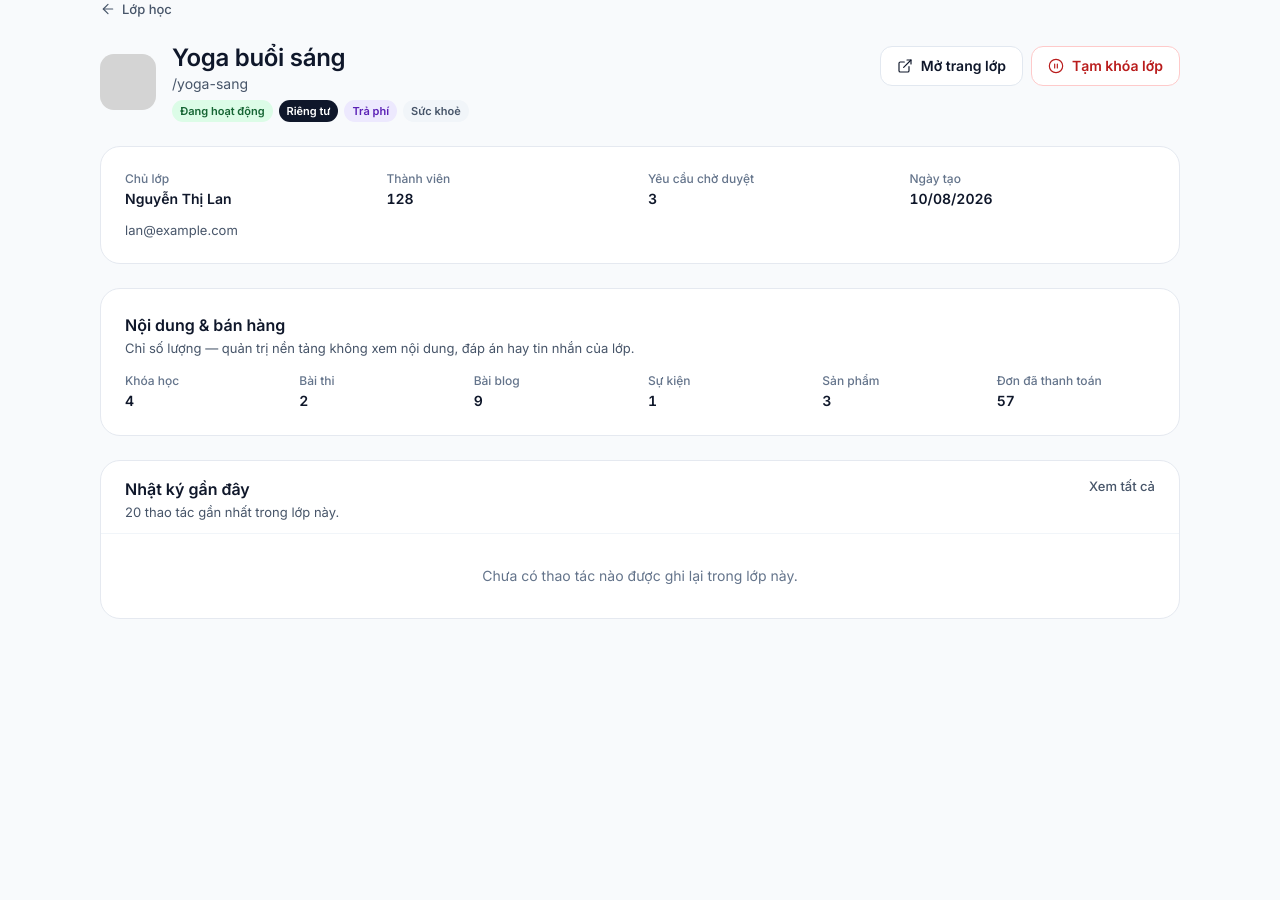
Scenario: AdminClassDetail suspend / restore › shows counts and the class link, and suspends only with a reason
The image size is (1280, 900).
Expected: the heading "Yoga buổi sáng" is shown, [172,43,345,72]
Expected: the text "57" is shown, [997,392,1015,409]
Click the button "Tạm khóa lớp" at point(1105, 66), box [1031,46,1180,86]
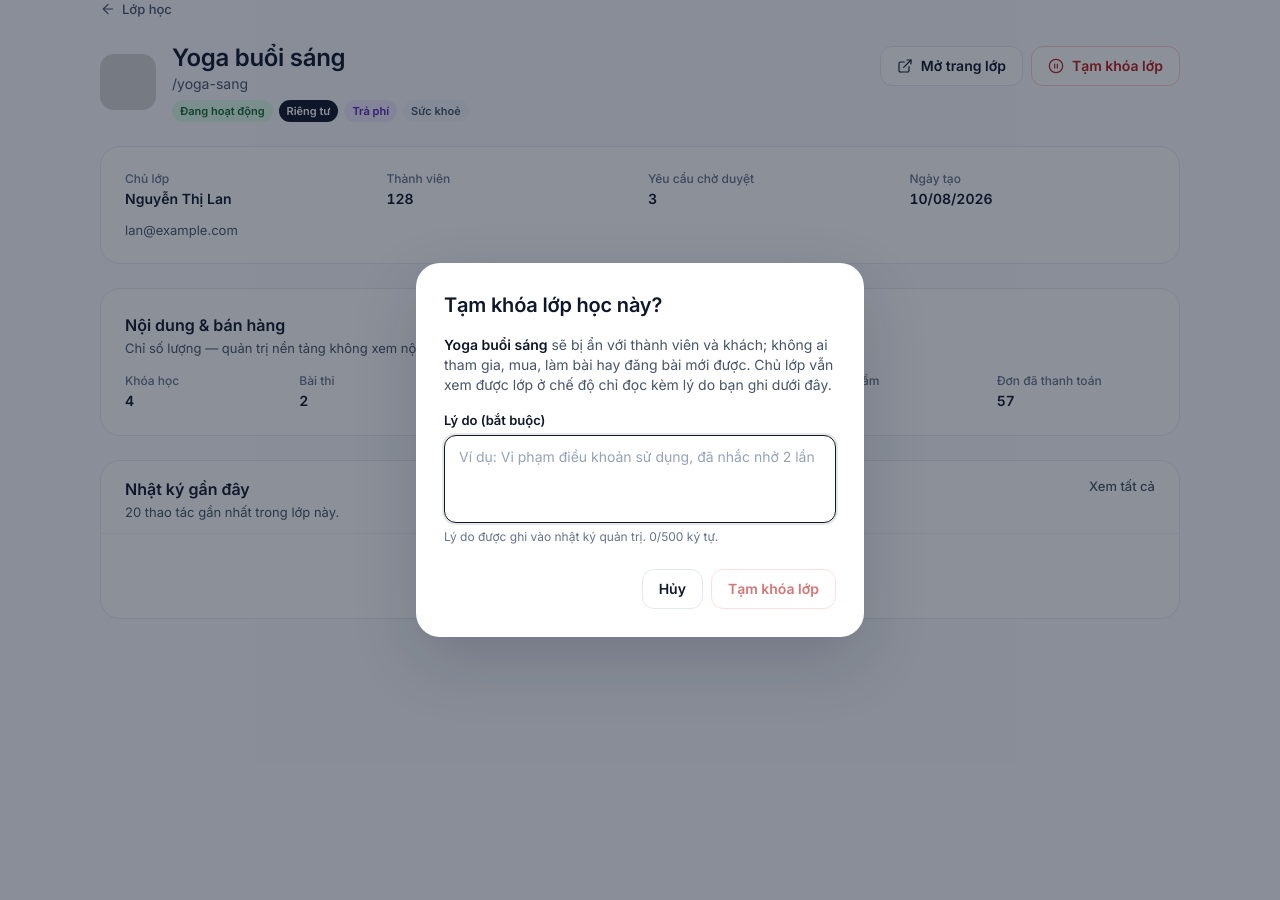
Result: the button "Tạm khóa lớp" is disabled at [711,569,836,609]
Type "Nội dung vi phạm bản quyền" into the text box labelled "Lý do (bắt buộc)" at point(640, 479), box [444,435,836,523]
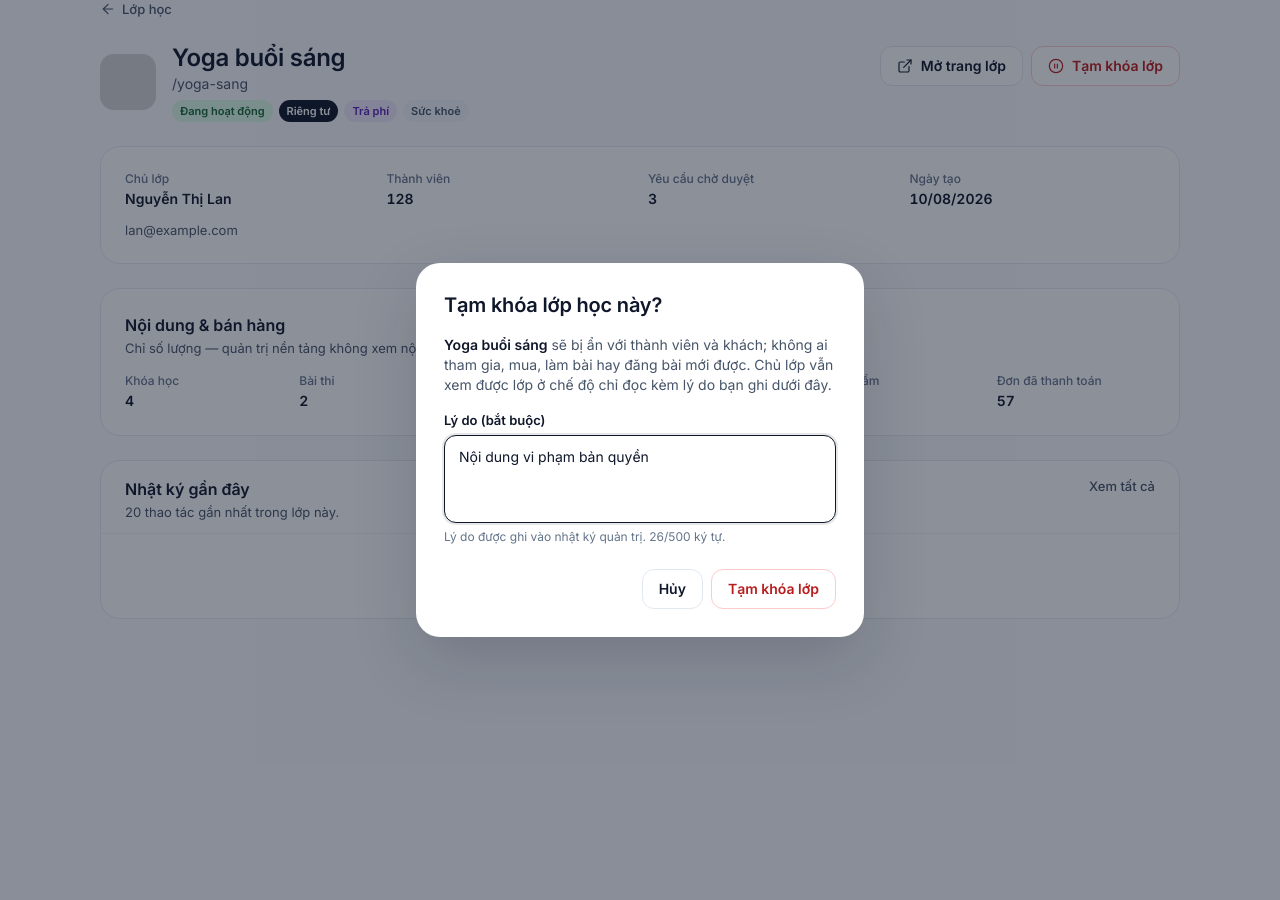
Click the button "Tạm khóa lớp" at point(773, 589), box [711,569,836,609]
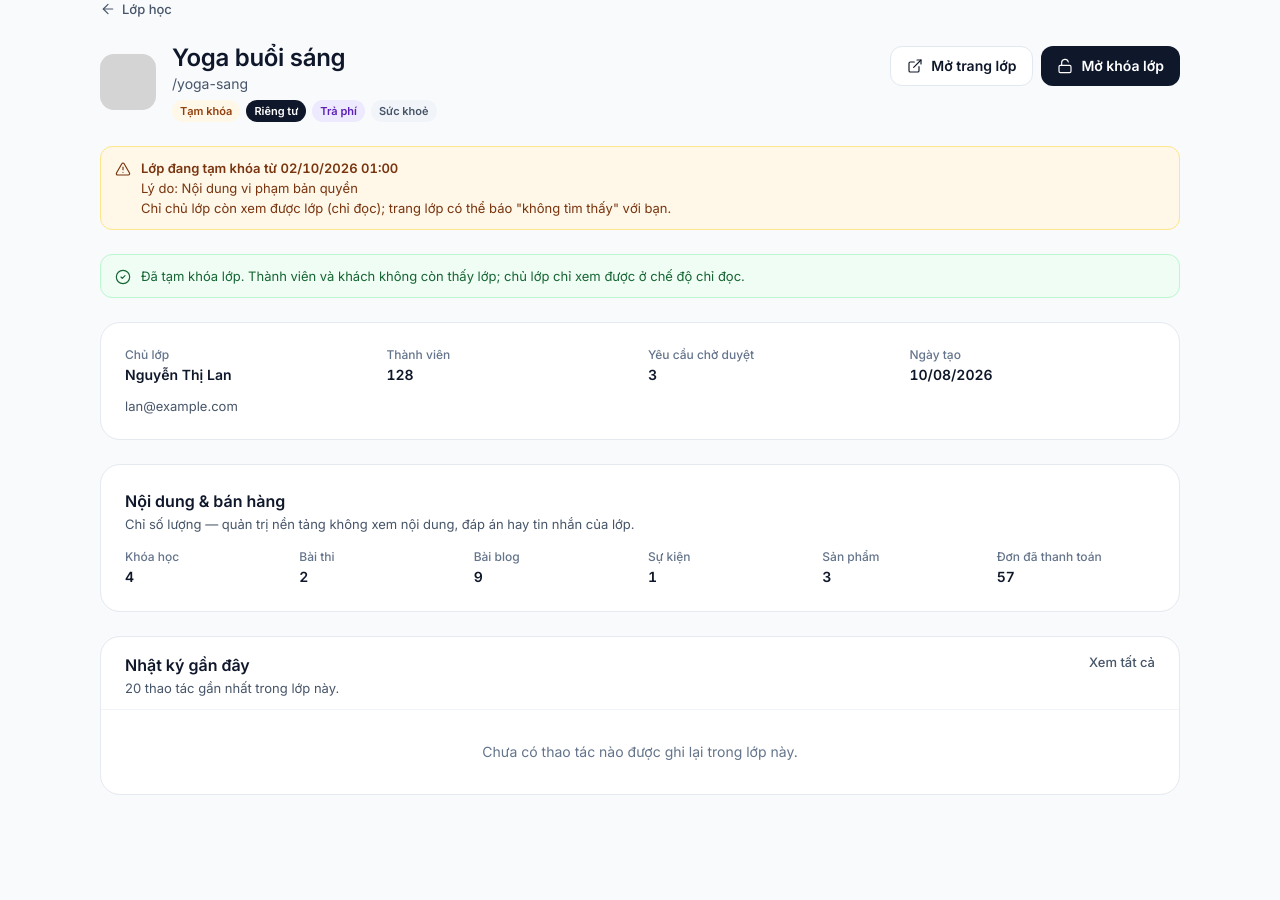
Result: the button "Mở khóa lớp" is shown at [1041,46,1180,86]
Result: the text "Lý do: Nội dung vi phạm bản quyền" is shown at [141,180,358,196]
